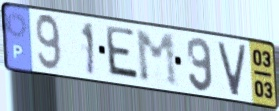1: (79, 21, 99, 78)
9: (34, 12, 65, 74), (185, 35, 215, 95)
E: (105, 23, 142, 84)
M: (133, 29, 181, 89)
V: (215, 39, 249, 99)
